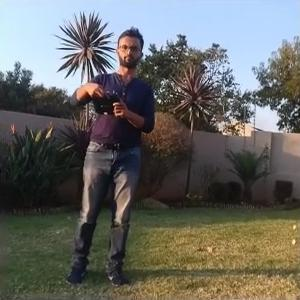follow: (59, 21, 157, 290)
